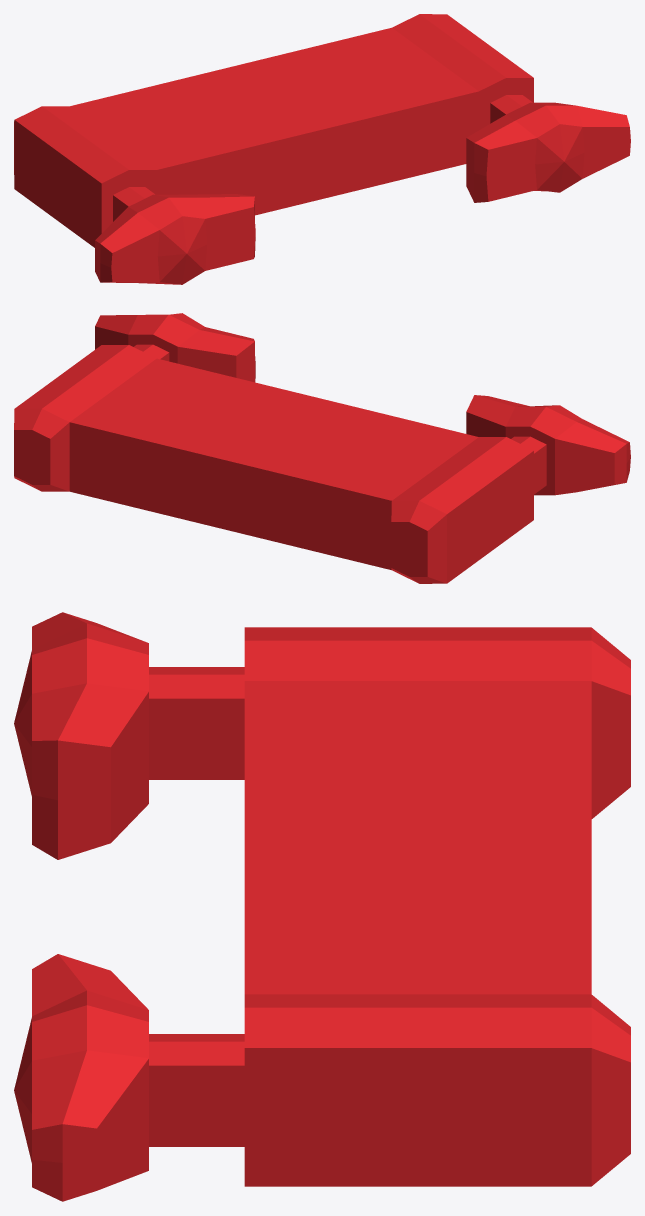
The model's file is Bloqueo_Modelo.fbx.
The picture shows the model from 3 angles, top to bottom: view 1: azimuth 30°, elevation 25°; view 2: azimuth 150°, elevation 25°; view 3: azimuth 270°, elevation 25°; orthographic projection. The views are drawn at different scales.
Visible parts, largest first — view 1: Obstaculo; view 2: Obstaculo; view 3: Obstaculo.
Part boxes in pixels (x1,y1,x2,y2): Obstaculo: (14, 14, 630, 284); Obstaculo: (14, 313, 630, 583); Obstaculo: (14, 612, 630, 1201).
Size of the model in its own units: 831 by 129 by 423.
